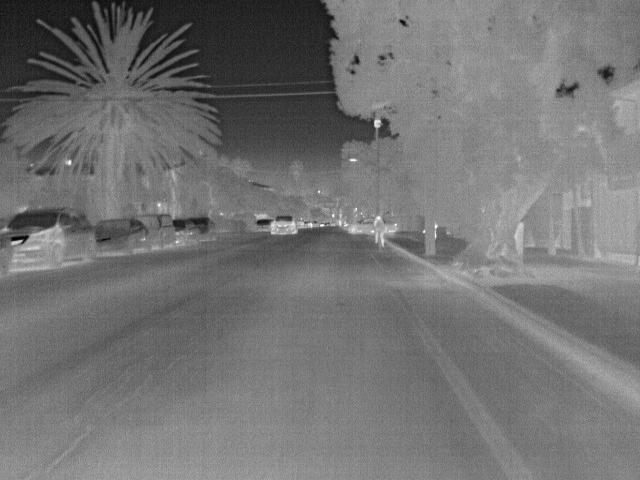car: (2, 206, 93, 267), (90, 215, 151, 256), (133, 213, 176, 247), (171, 220, 201, 248), (185, 216, 217, 241), (269, 216, 298, 235), (347, 216, 374, 234), (253, 218, 273, 232), (384, 218, 400, 234)
person: (371, 213, 385, 246)
